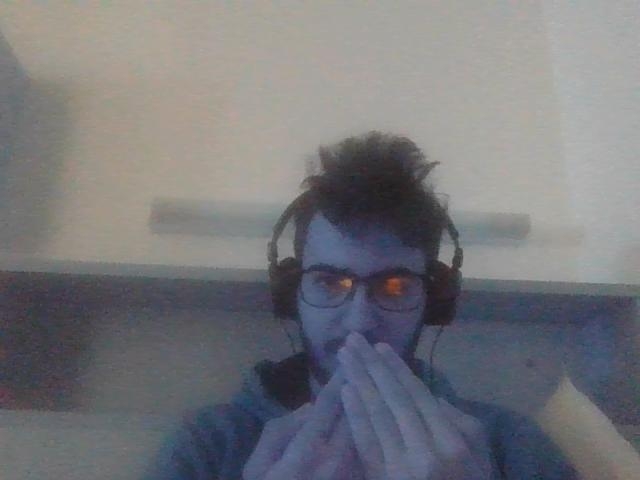thank you: (241, 335, 493, 478)
